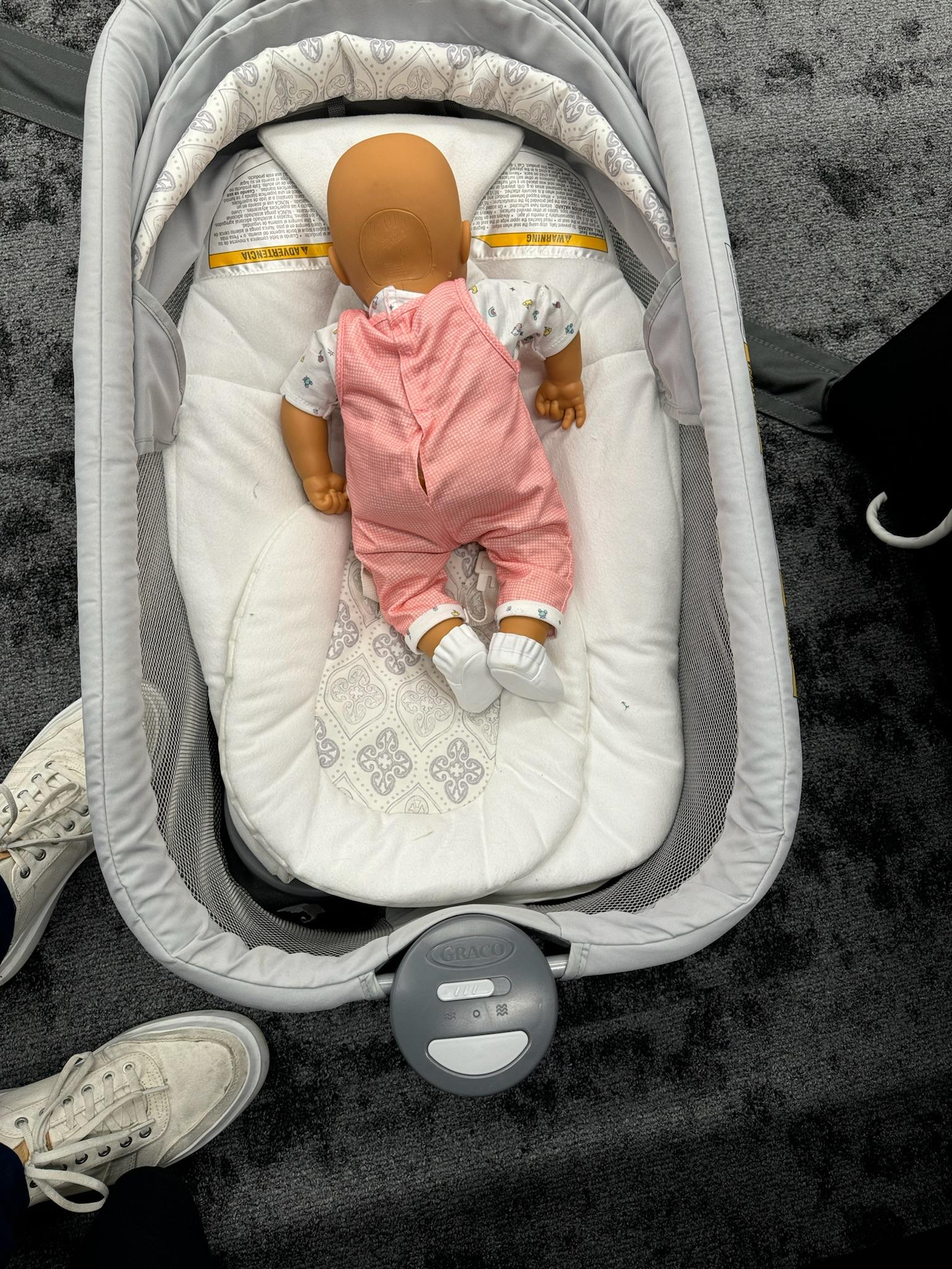baby: (278, 125, 606, 714)
